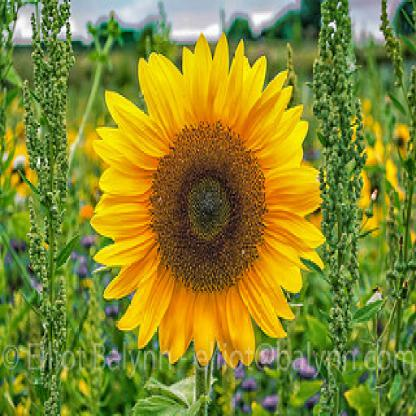SUN FLOWER: (65, 12, 386, 400)
